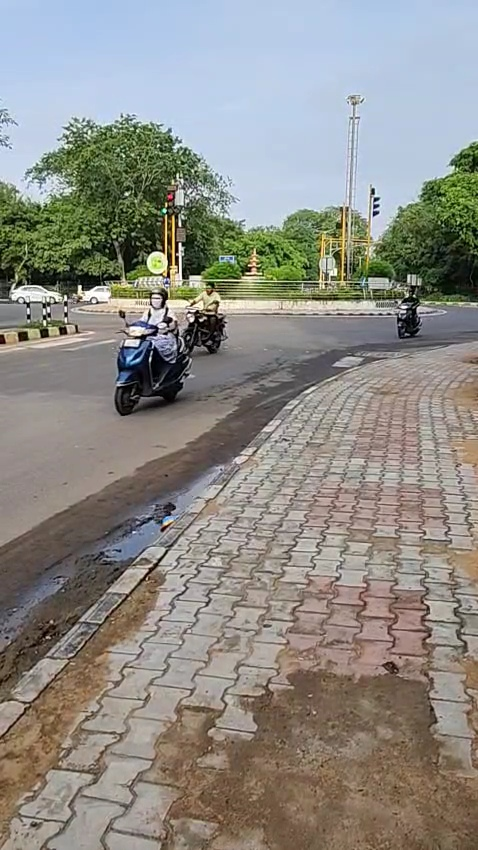BikeWithRider: (111, 286, 197, 417), (176, 280, 229, 357), (393, 284, 425, 340)
Helmet: (145, 285, 172, 311)
NoHelmet: (203, 281, 217, 295)
